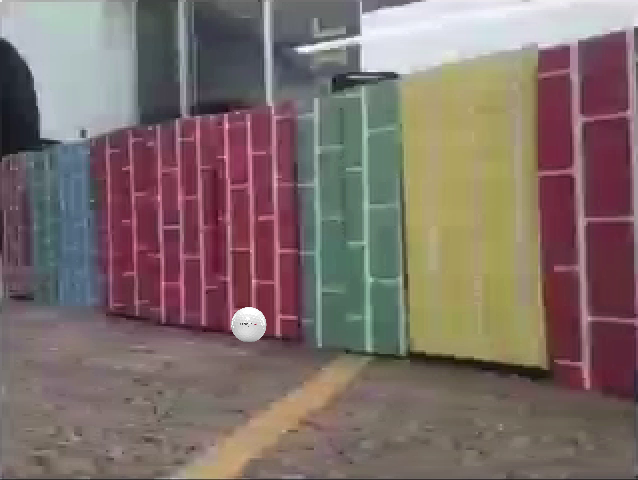ball: (339, 416, 375, 452)
